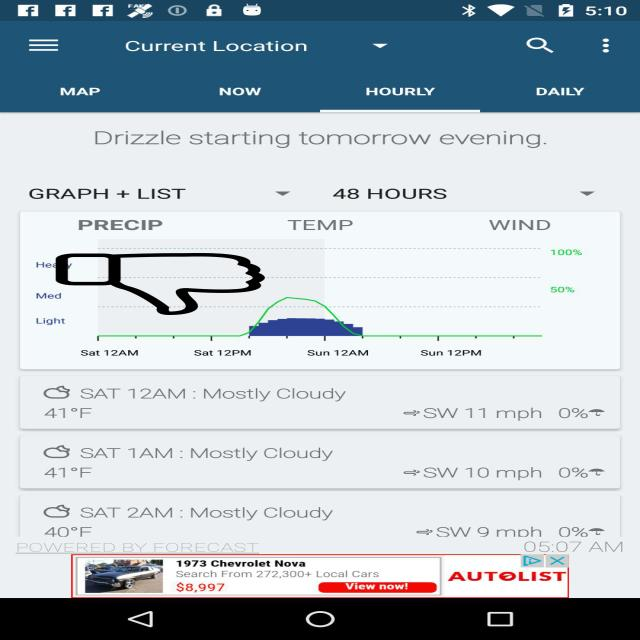obstruction: (53, 253, 268, 315)
